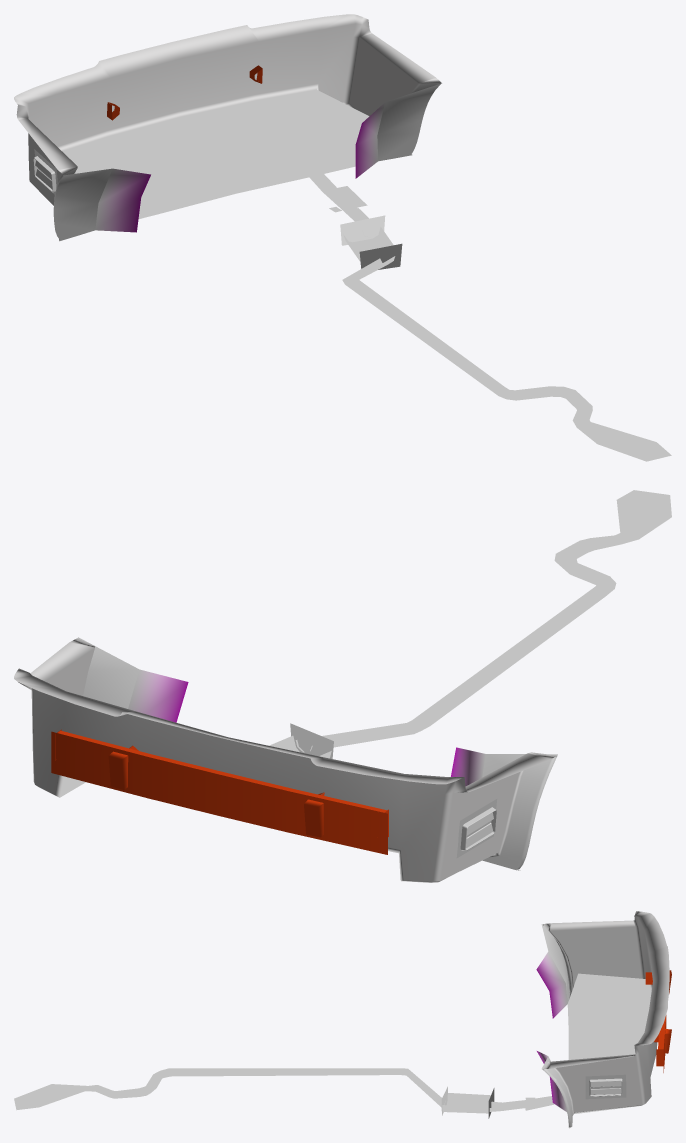
Rendered from Car_Nissan_SkylineGTRVspecR34_1999_BumperChassisR_SetA.fbx.
3 renders of one model, top to bottom at view 1: azimuth 30°, elevation 25°; view 2: azimuth 150°, elevation 25°; view 3: azimuth 270°, elevation 25°, orthographic. The views are drawn at different scales.
Visible parts, largest first — view 1: BumperChassisR 6; view 2: BumperChassisR 6; view 3: BumperChassisR 6.
Boxes of the visible parts, x1,y1,x2,y2 form: BumperChassisR 6: (14, 14, 671, 461); BumperChassisR 6: (14, 490, 671, 882); BumperChassisR 6: (14, 911, 671, 1128).
Bounding box in the file's own units: 1.77 × 0.6211 × 3.38.
